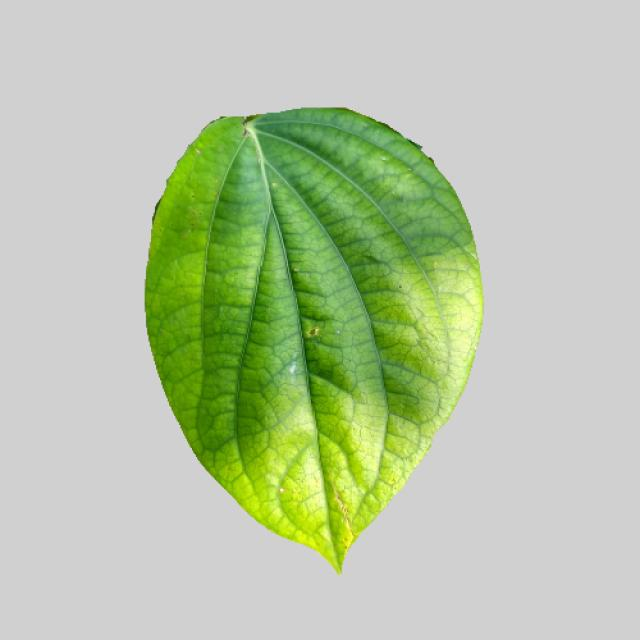healthy: (142, 106, 484, 581)
